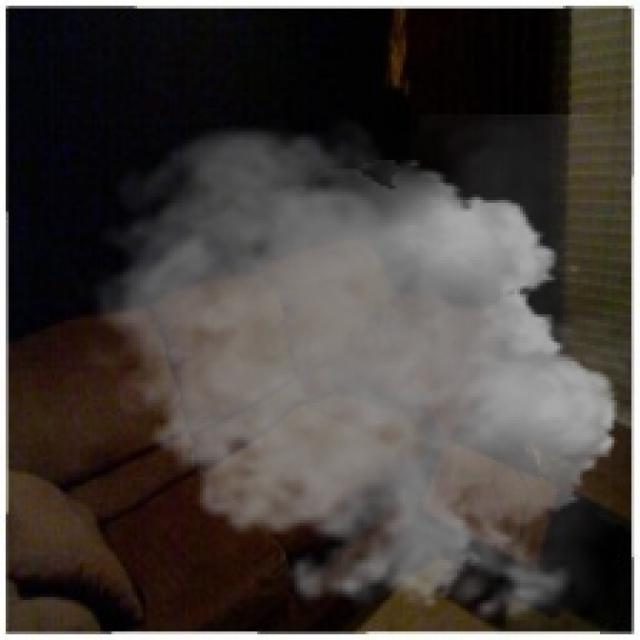Smoke: (75, 114, 634, 637)
